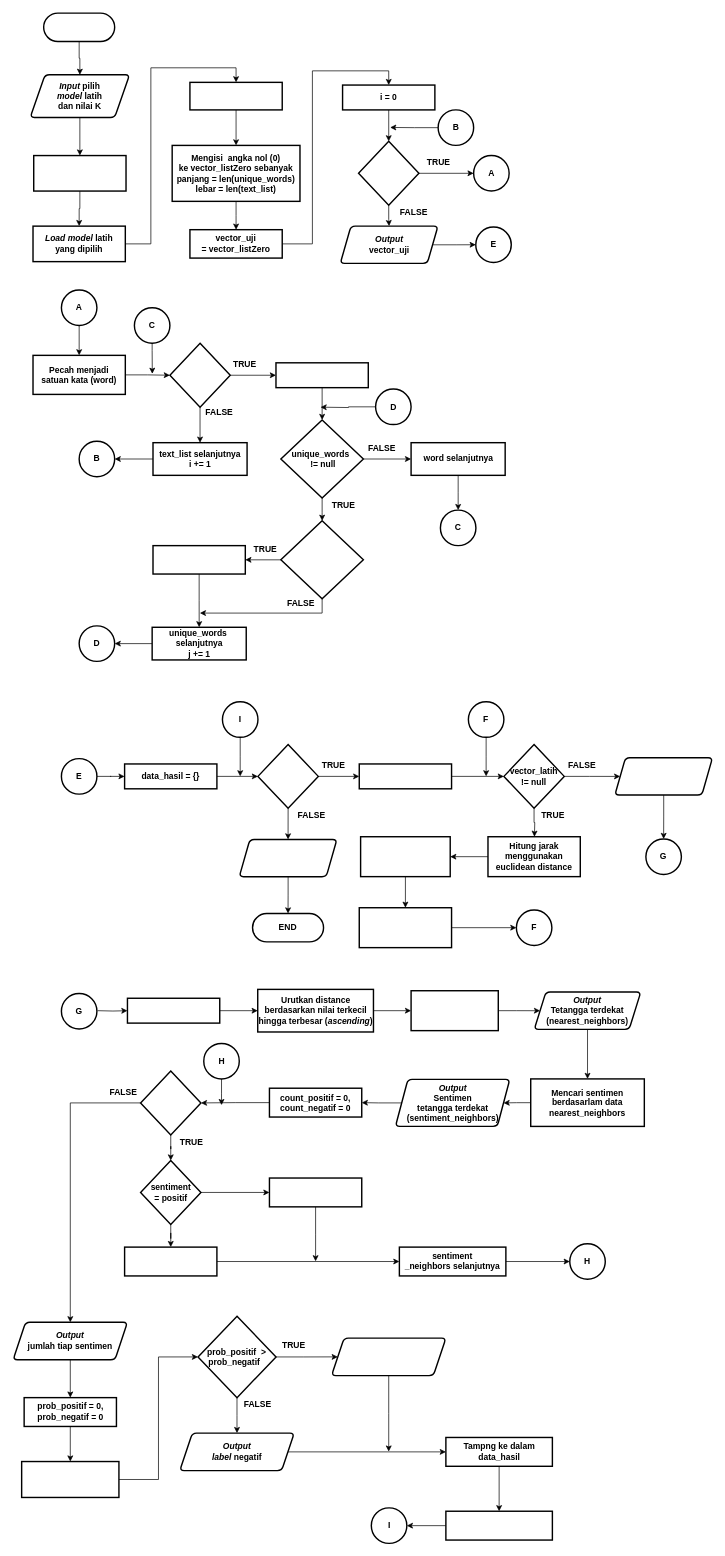
This 725x1556 diagram has some shape labels left out. Here are the shapes that lost their labels. From the top down, the centre of each, then its label:
At point 79,27: "START".
At point 236,95: "vector_listZero = []".
At point 79,172: "Select semua data uji dari database (text_list)".
At point 388,173: "text_list != null".
At point 200,375: "word != null".
At point 322,375: "j = 0".
At point 199,559: "vector_uji [i][j] += 1".
At point 322,559: "word = unique_words".
At point 288,776: "vector_uji != null".
At point 405,776: "distance = {}".
At point 663,776: "Output Jarak tetangga (distance)".
At point 287,857: "Output Prediksi label data uji".
At point 405,856: "Tampung ke dalam distance".
At point 405,927: "vector_latih selanjutnya".
At point 173,1010: "nearest_neighbors = {}".
At point 454,1010: "Mengambil data dengan index < K".
At point 170,1102: "sentiment _neighbors != null".
At point 315,1192: "count_positif += 1".
At point 170,1261: "count_negatif += 1".
At point 388,1356: "Output label positif".
At point 70,1479: "Hitung probabilitas tiap sentimen".
At point 499,1525: "vector_uji selanjutnya".
